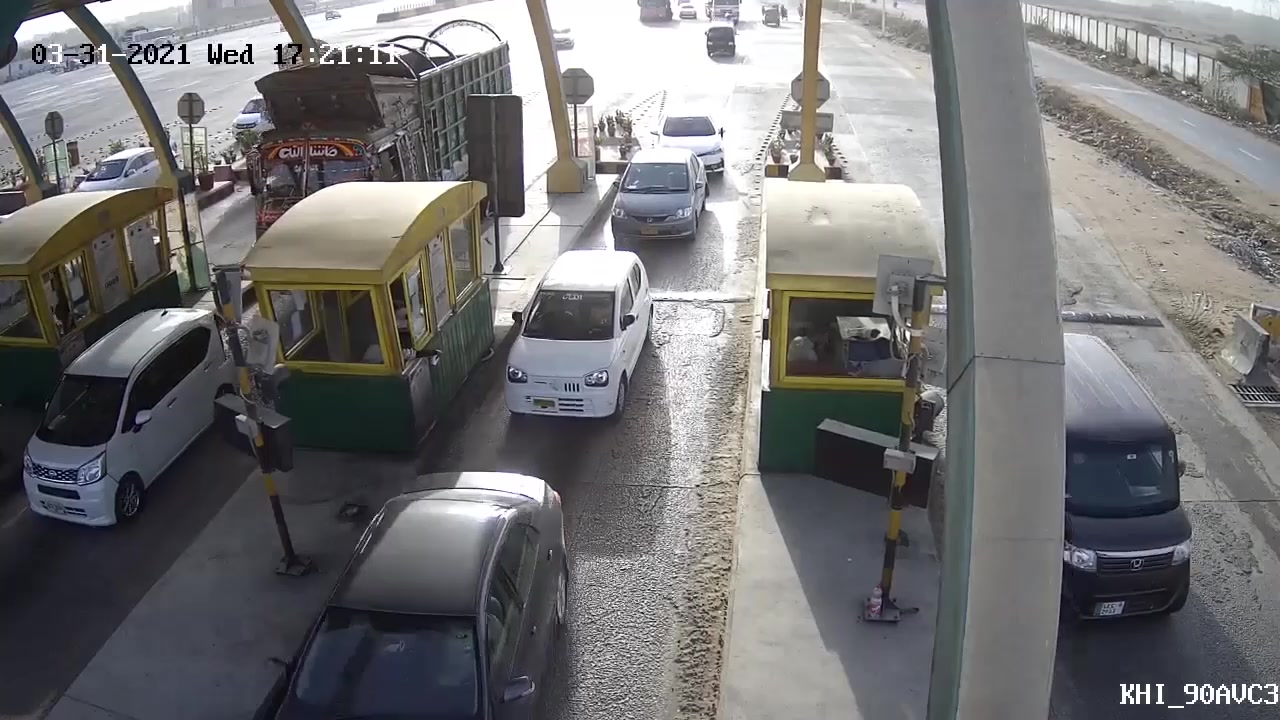F1: (494, 243, 650, 439), (596, 147, 714, 263)
